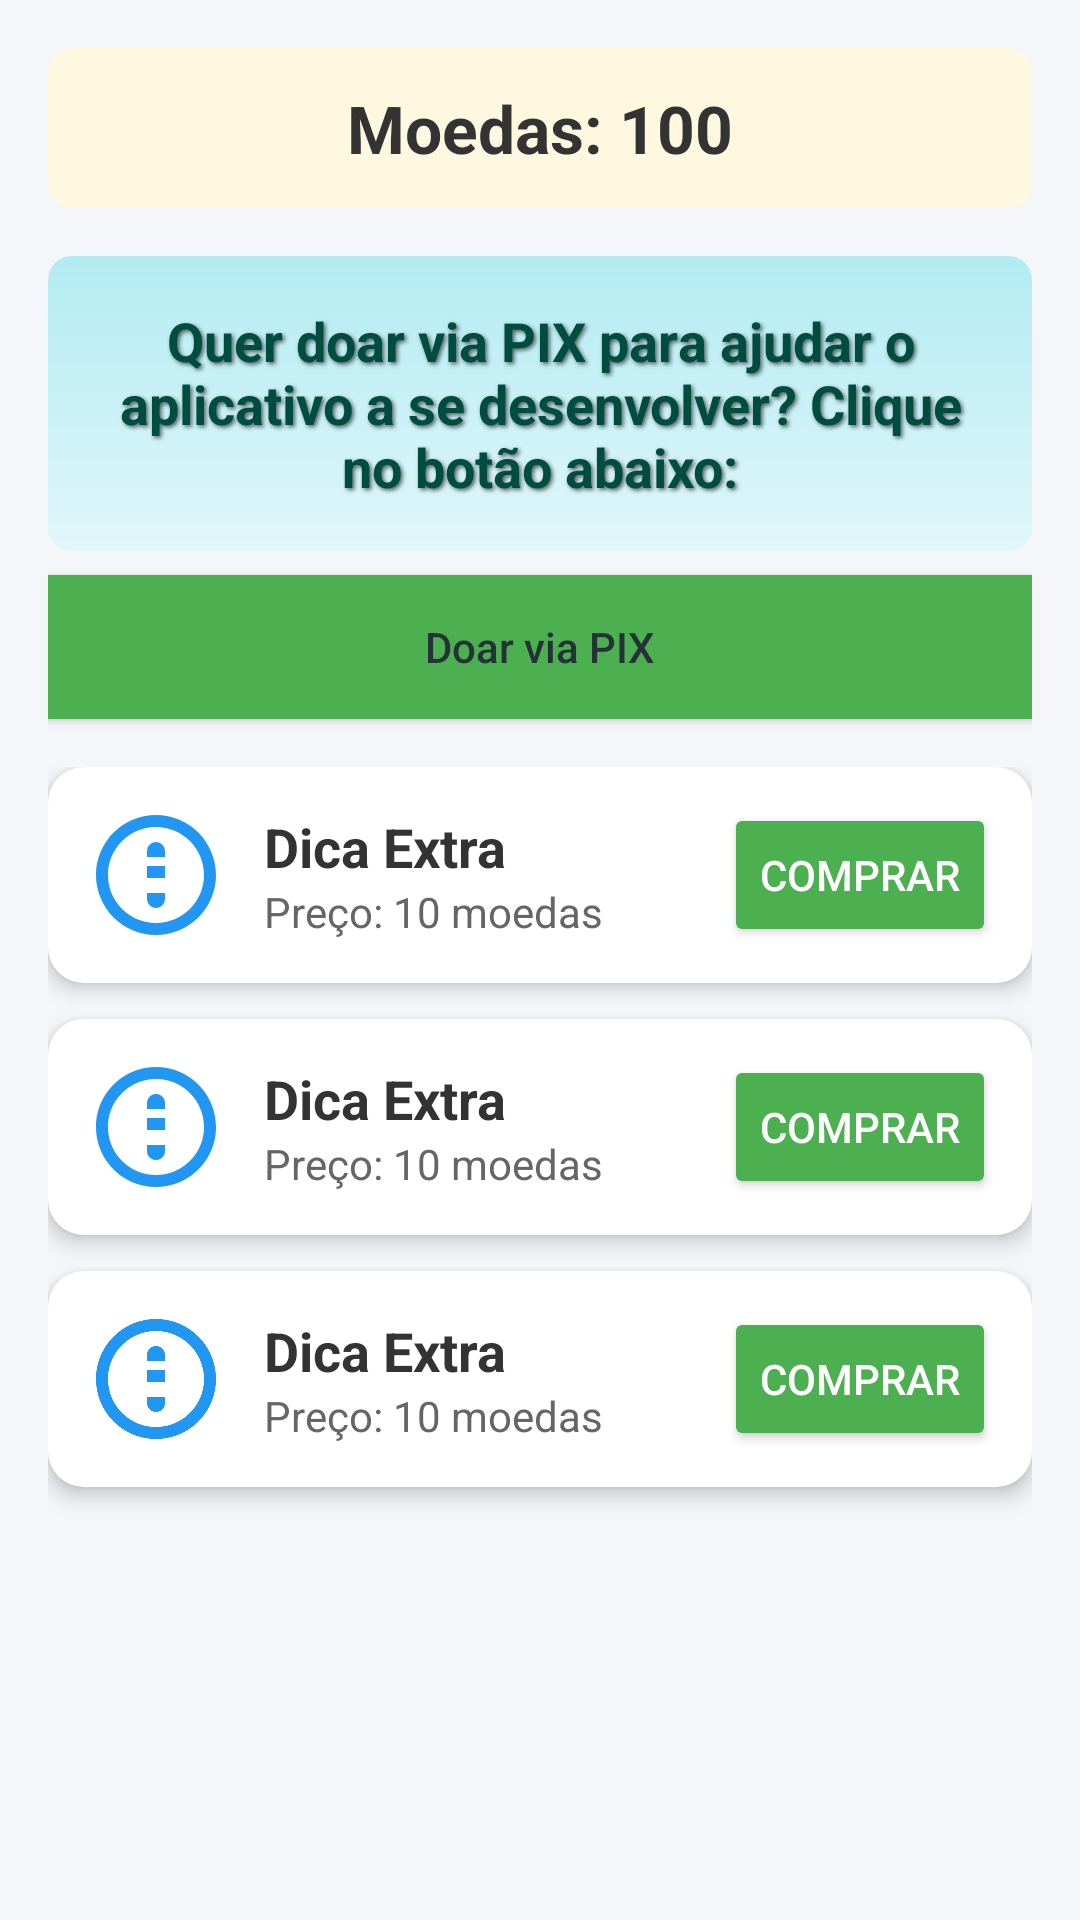

Icon bounding boxes for this 1080px×1920px phone screenshot, format detection(x1, y1, x2, y2):
Ícone do item: detection(96, 815, 216, 935), detection(96, 1067, 216, 1187), detection(96, 1319, 216, 1439)
